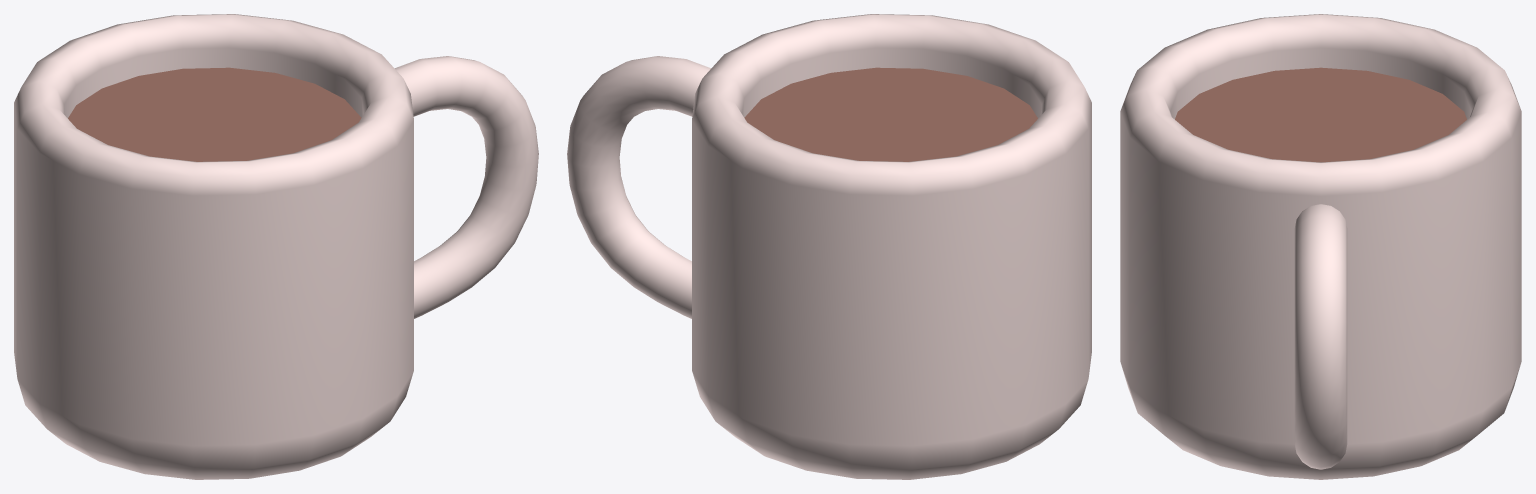
The model's file is Town_13_Cup_1.glb.
The picture shows the model from 3 angles, left to right: view 1: azimuth 30°, elevation 25°; view 2: azimuth 150°, elevation 25°; view 3: azimuth 270°, elevation 25°; orthographic projection.
Visible parts, largest first — view 1: Town_13_Cup_1; view 2: Town_13_Cup_1; view 3: Town_13_Cup_1.
Part boxes in pixels (x1,y1,x2,y2): Town_13_Cup_1: [14, 14, 538, 479]; Town_13_Cup_1: [567, 14, 1091, 479]; Town_13_Cup_1: [1120, 14, 1521, 479].
Bounding box in the file's own units: 0.2287 × 0.144 × 0.1608.
1 material, 1 textured.
